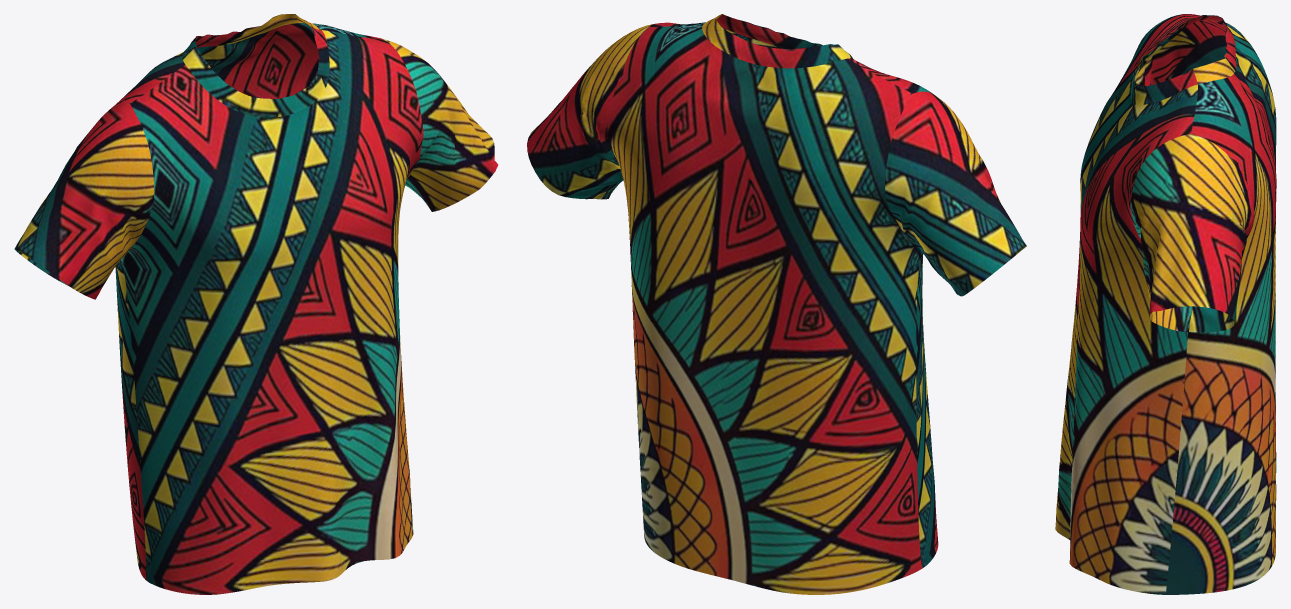
Rendered from t-shirt.glb.
3 renders of one model, left to right at view 1: azimuth 30°, elevation 25°; view 2: azimuth 150°, elevation 25°; view 3: azimuth 270°, elevation 25°, orthographic. The views are drawn at different scales.
Parts seen in each view (by area): view 1: Male_Tshirt; view 2: Male_Tshirt; view 3: Male_Tshirt.
Part boxes in pixels (x1=…): Male_Tshirt: x1=14, y1=14, x2=498, y2=594; Male_Tshirt: x1=527, y1=14, x2=1026, y2=594; Male_Tshirt: x1=1055, y1=14, x2=1276, y2=594.
Bounding box in the file's own units: 5.33 × 5.54 × 2.22.
1 material, 1 textured.
